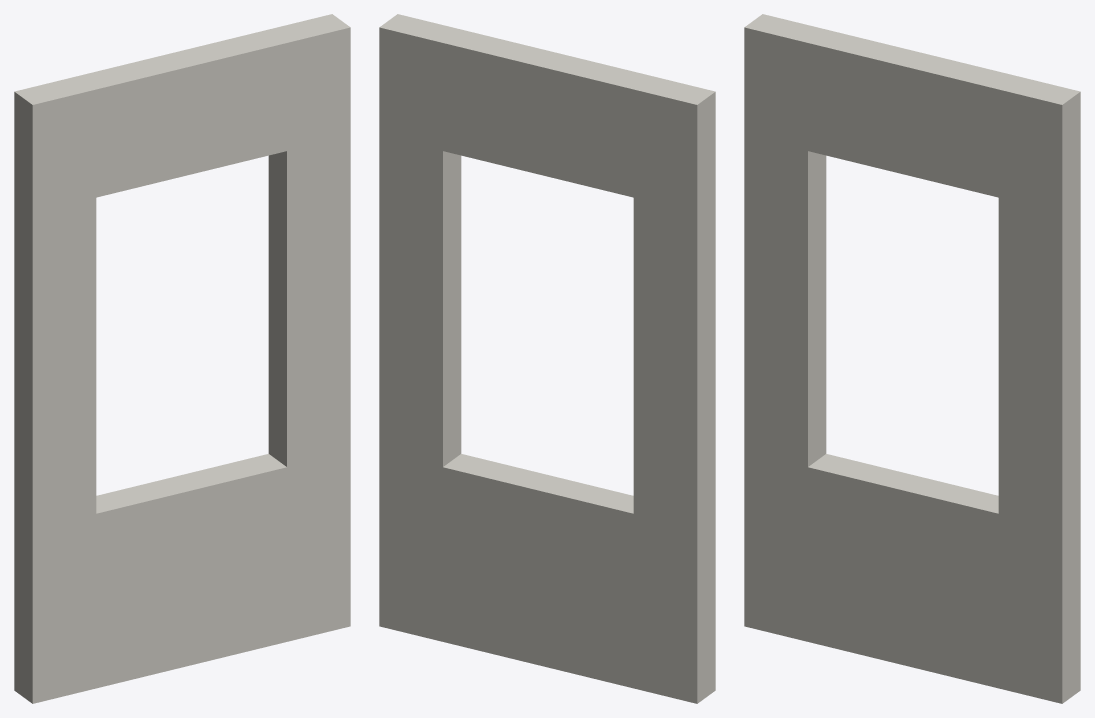
File: OA_Wall_Window_2m.fbx
The picture shows the model from 3 angles, left to right: view 1: azimuth 30°, elevation 25°; view 2: azimuth 150°, elevation 25°; view 3: azimuth 330°, elevation 25°; orthographic projection.
Parts seen in each view (by area): view 1: OA_Wall_Window_2m; view 2: OA_Wall_Window_2m; view 3: OA_Wall_Window_2m.
Part boxes in pixels (x1,y1,x2,y2): OA_Wall_Window_2m: (14,14,350,703); OA_Wall_Window_2m: (379,14,715,703); OA_Wall_Window_2m: (744,14,1080,703).
Bounding box in the file's own units: 2 × 3.6 × 0.2.
1 material, 1 textured.
